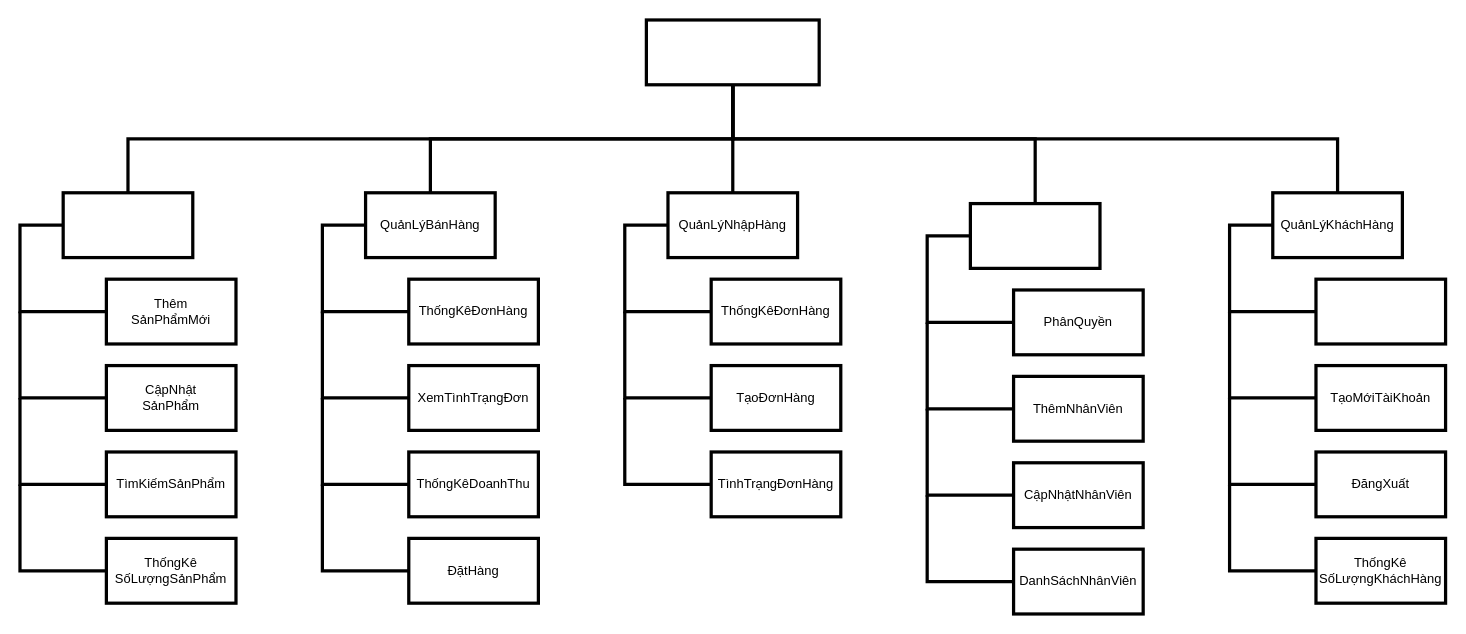
Some shapes in this 1466 by 634 pixel diagram are drawn without their labels. Here are the shapes that lost their labels. From the top down, the centre of each, then its label:
[732,52]: HệThốngQuảnLýBánHàng
[127,225]: QuảnLýSảnPhẩm
[1034,235]: QuảnLýNhânViên
[1380,311]: ĐăngNhập
